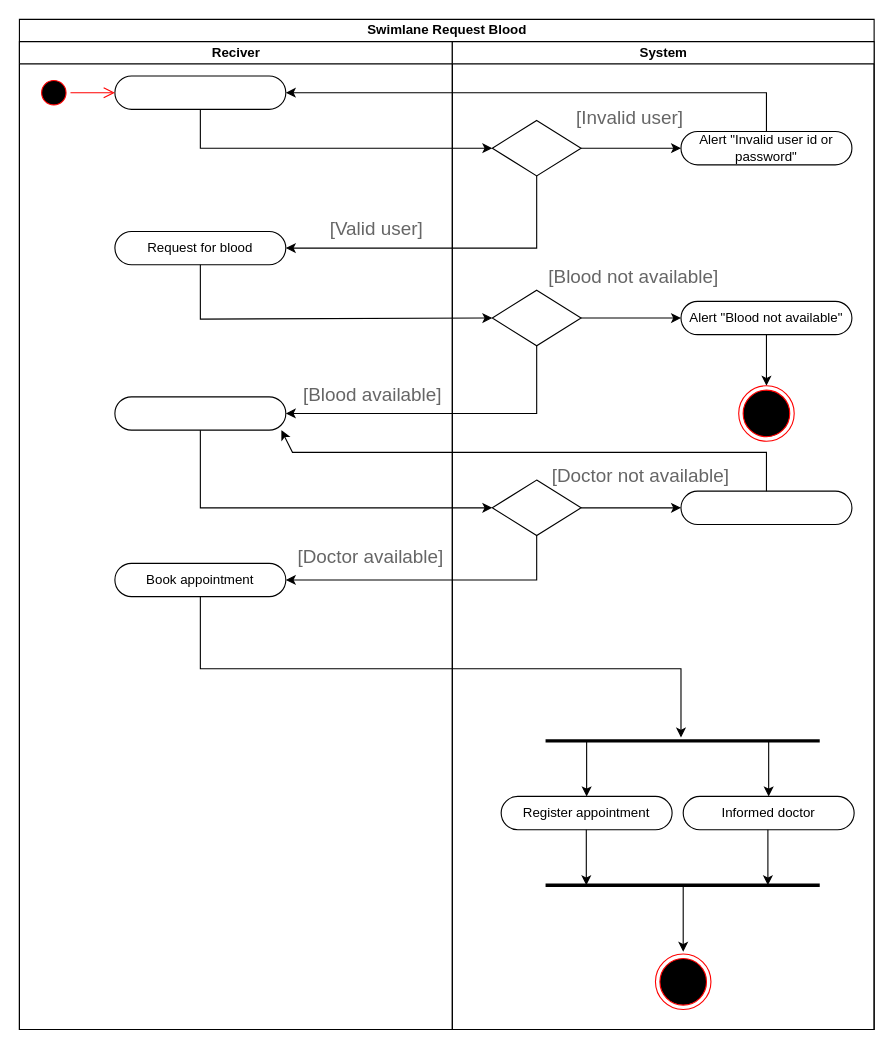
The diagram is 894 pixels wide and 1049 high, and some of its shapes have lost their labels. Each missing label, with the centre of its shape:
Alert "Doctor not available": [766,507]
Doctor available: [200,413]
Login: [200,92]
